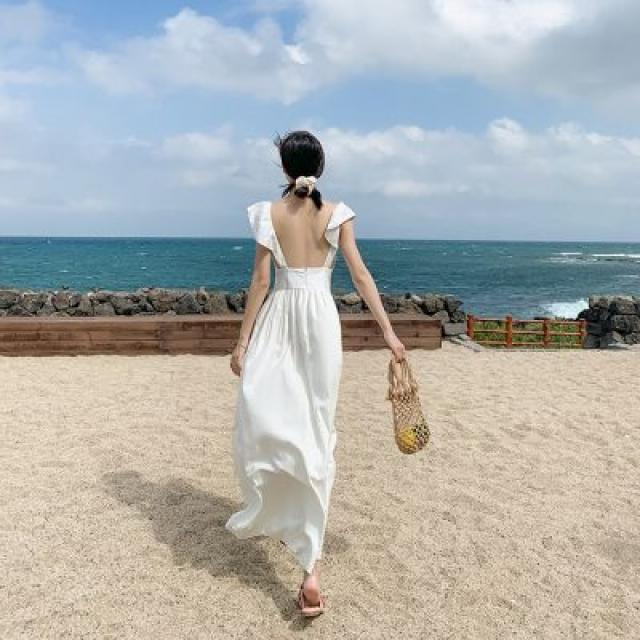clothes: (222, 196, 362, 569)
